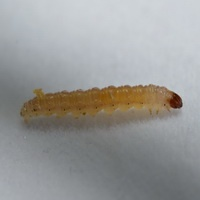insect: (20, 84, 182, 122)
